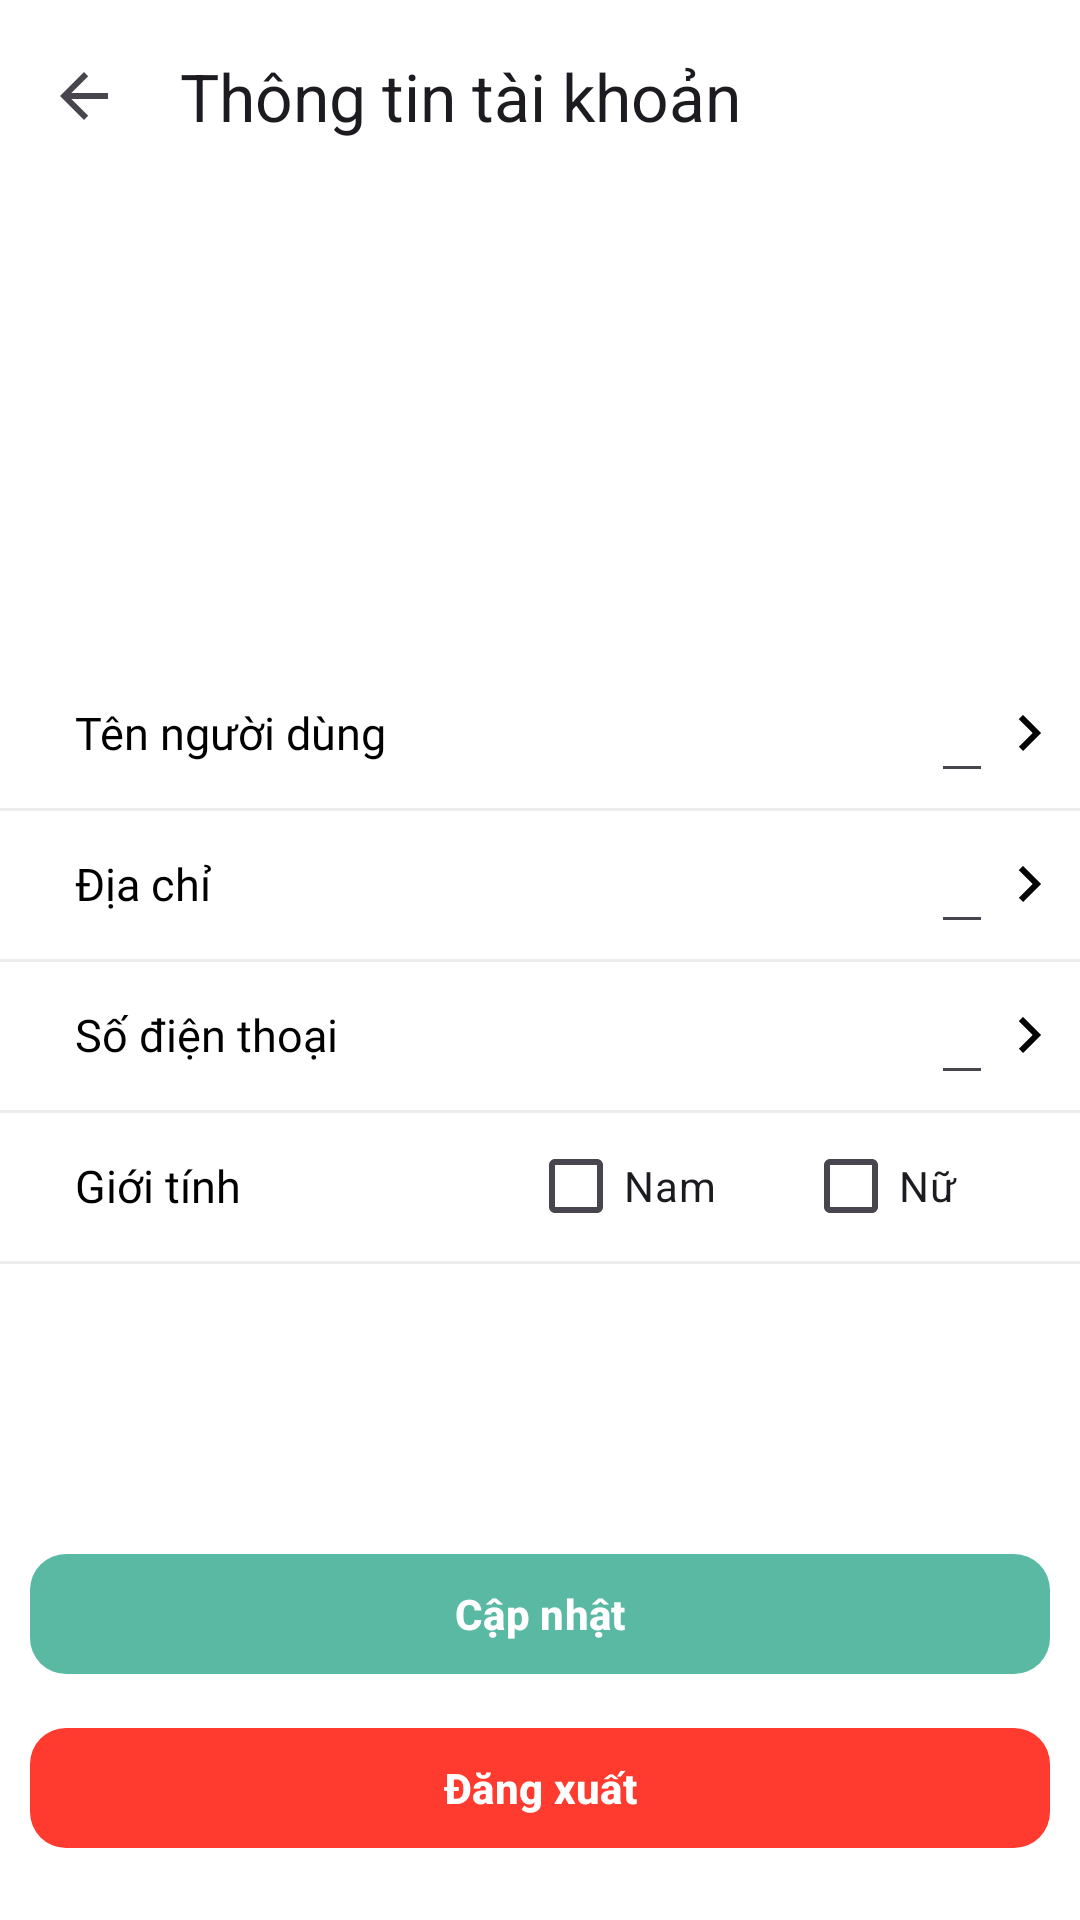

Named icons in this screenshot (1080×1920) and their bounding boxes, [x1, y1, x2, y2]:
arrow right more category: [1019, 715, 1041, 751], [1019, 866, 1041, 902], [1019, 1017, 1041, 1053]
